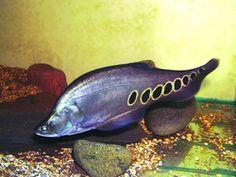Knifefish: (36, 58, 220, 138)
